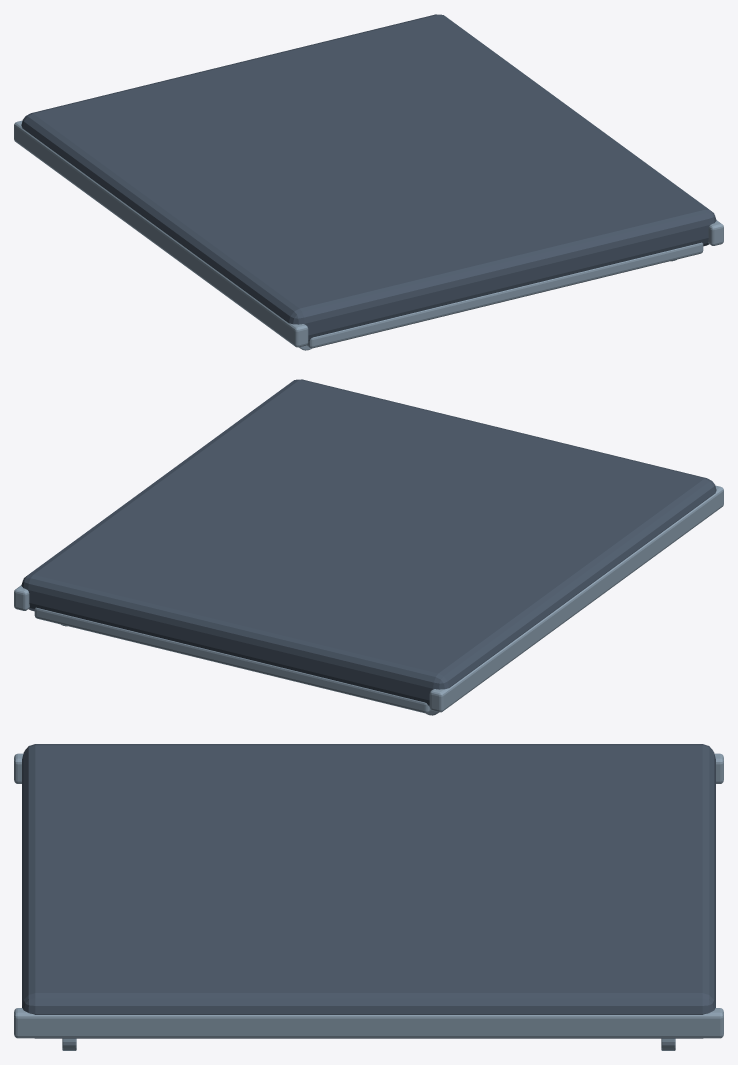
The model's file is CeilingTile.glb.
3 renders of one model, top to bottom at view 1: azimuth 30°, elevation 25°; view 2: azimuth 150°, elevation 25°; view 3: azimuth 270°, elevation 25°, orthographic. The views are drawn at different scales.
Parts seen in each view (by area): view 1: Sector11CeilingLightTile; view 2: Sector11CeilingLightTile; view 3: Sector11CeilingLightTile.
Boxes of the visible parts, x1,y1,x2,y2 form: Sector11CeilingLightTile: (14, 14, 723, 350); Sector11CeilingLightTile: (14, 379, 723, 715); Sector11CeilingLightTile: (14, 744, 723, 1050).
Bounding box in the file's own units: 3.57 × 0.435 × 4.08.
